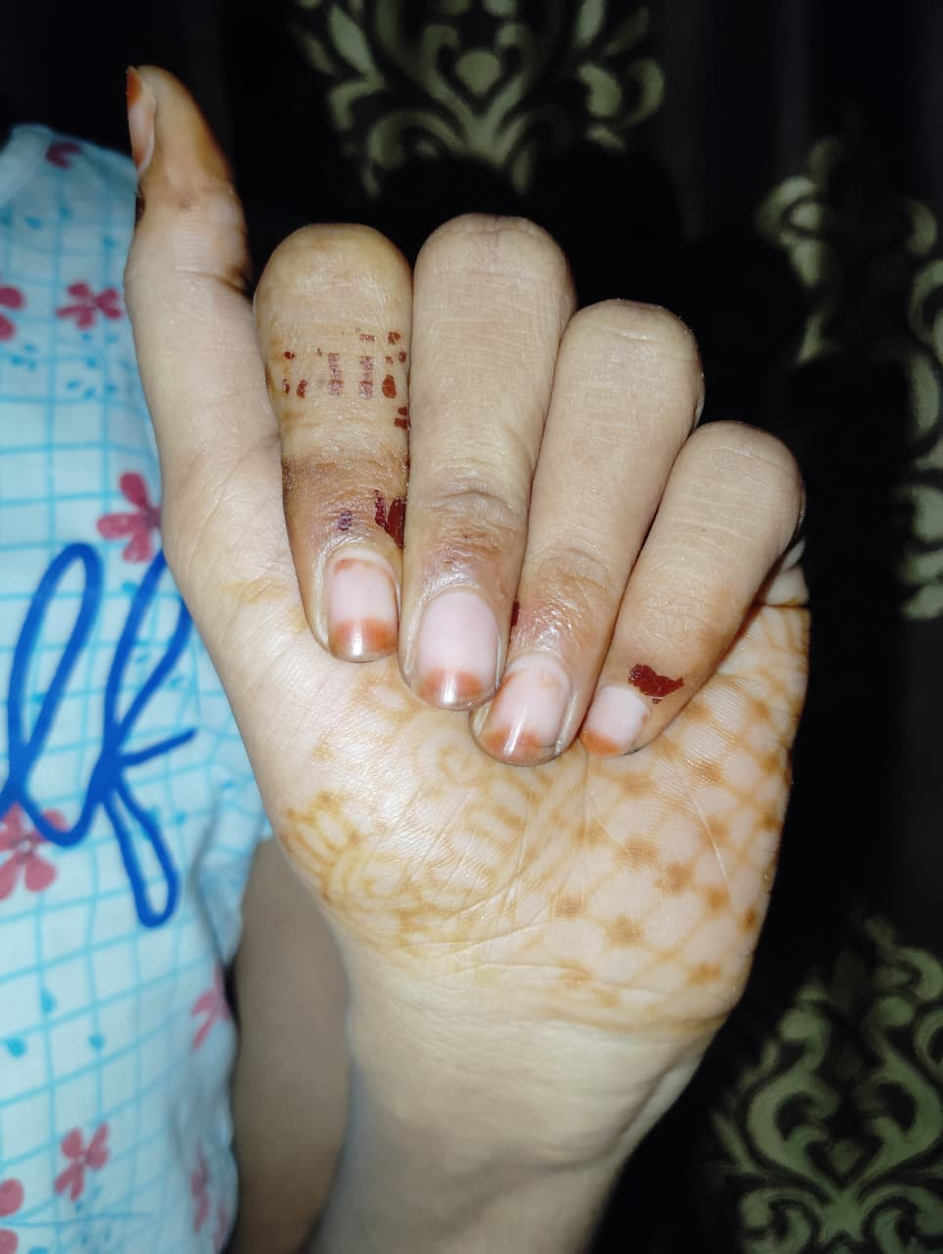A: (123, 73, 810, 1098)
